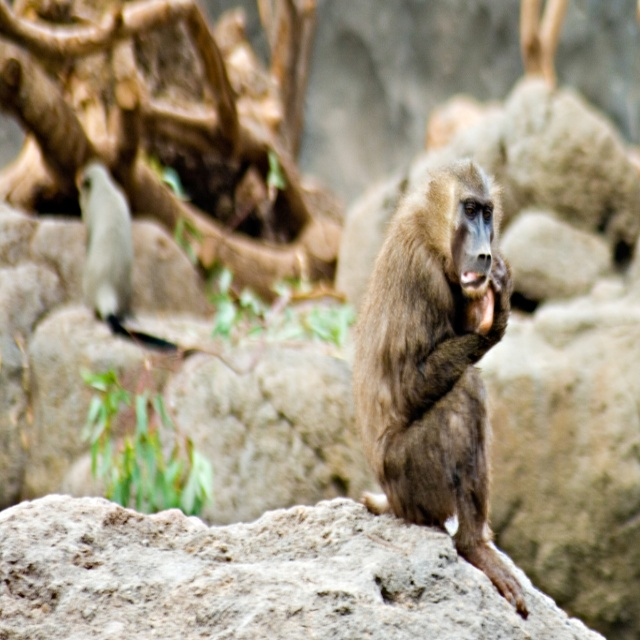Monkey: (360, 155, 521, 605)
